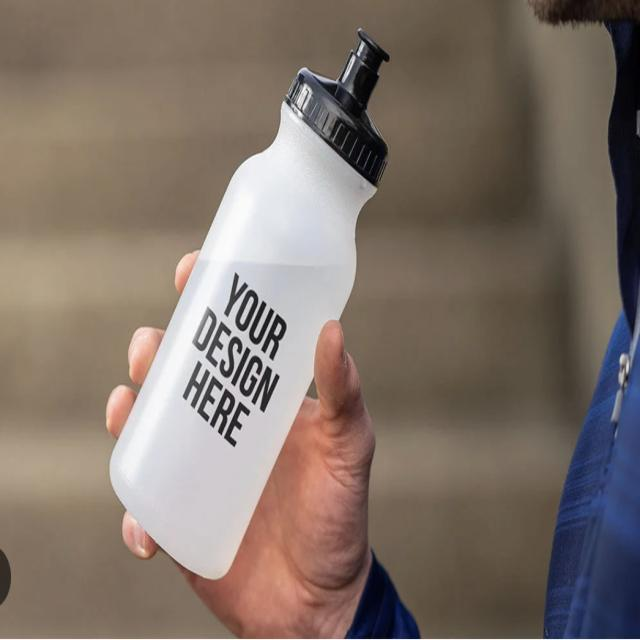recyclable: (59, 16, 427, 580)
